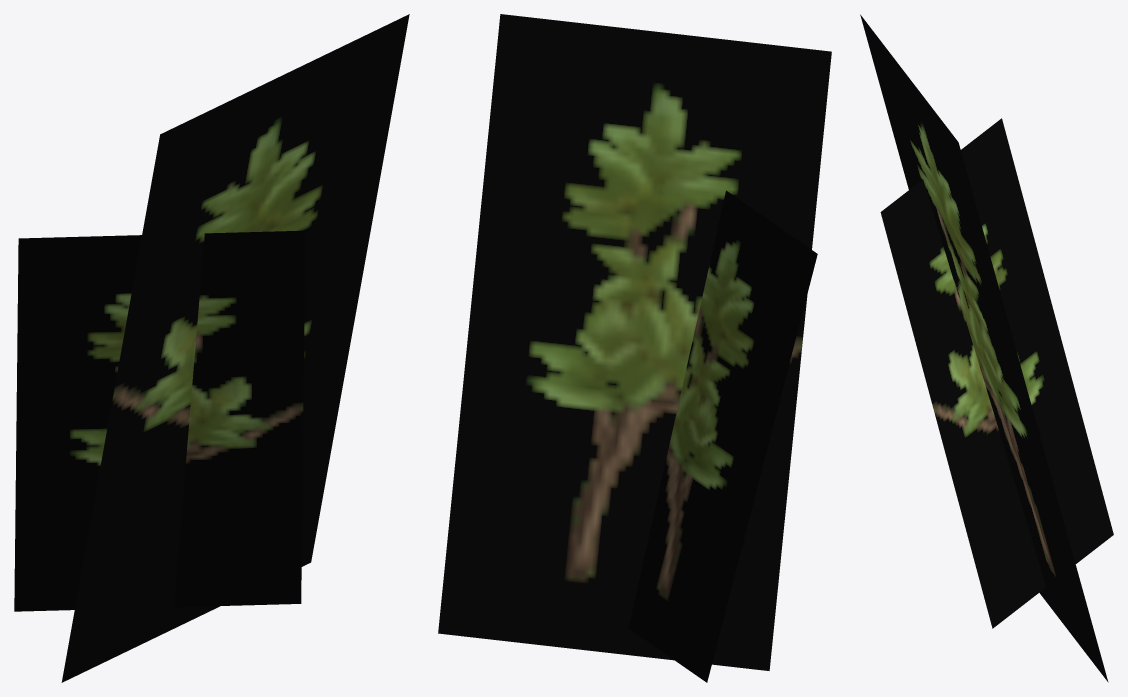
File: Grass_D_2.fbx
The picture shows the model from 3 angles, left to right: view 1: azimuth 30°, elevation 25°; view 2: azimuth 150°, elevation 25°; view 3: azimuth 270°, elevation 25°; orthographic projection. The views are drawn at different scales.
Parts seen in each view (by area): view 1: Grass_D_2__9_; view 2: Grass_D_2__9_; view 3: Grass_D_2__9_.
Part boxes in pixels (<box>): Grass_D_2__9_: <box>14,14,409,682</box>; Grass_D_2__9_: <box>438,14,831,682</box>; Grass_D_2__9_: <box>860,14,1113,682</box>.
Bounding box in the file's own units: 0.1324 × 0.2108 × 0.0877.
